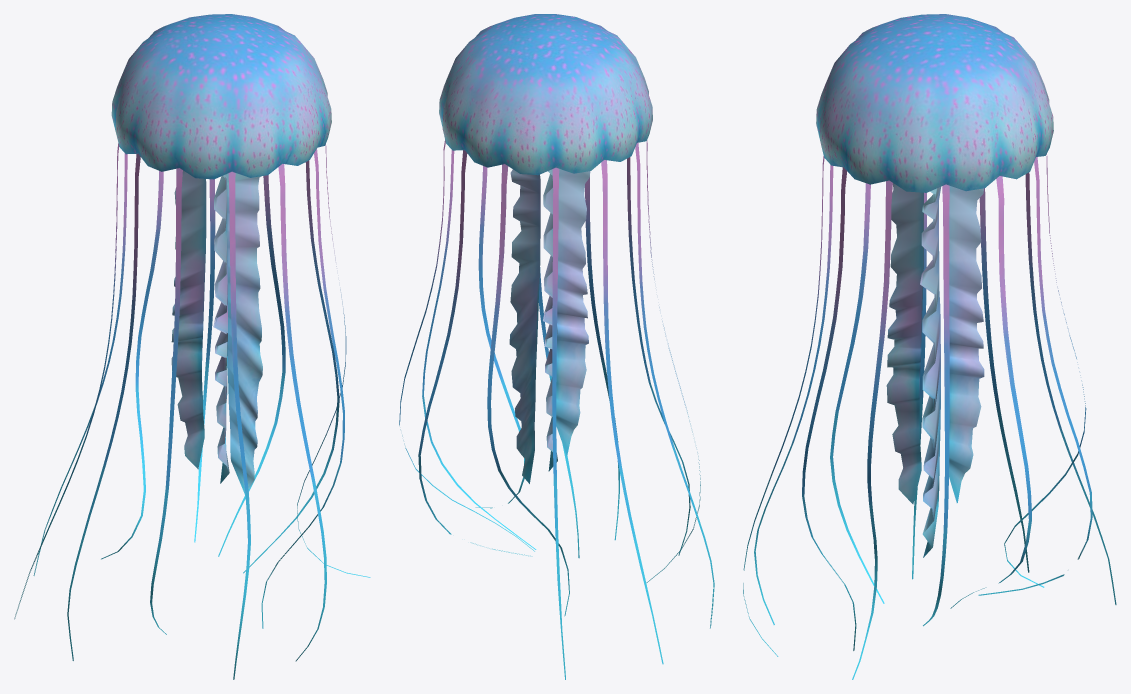
Rendered from env_jelly.glb.
3 renders of one model, left to right at view 1: azimuth 30°, elevation 25°; view 2: azimuth 150°, elevation 25°; view 3: azimuth 270°, elevation 25°, orthographic. The views are drawn at different scales.
Visible parts, largest first — view 1: node_id30_1; view 2: node_id30_1; view 3: node_id30_1.
Part boxes in pixels (x1,y1,x2,y2): node_id30_1: (14, 14, 370, 679); node_id30_1: (399, 14, 714, 679); node_id30_1: (743, 14, 1116, 679).
Bounding box in the file's own units: 0.9272 × 1.82 × 0.9696.
1 material, 1 textured.
